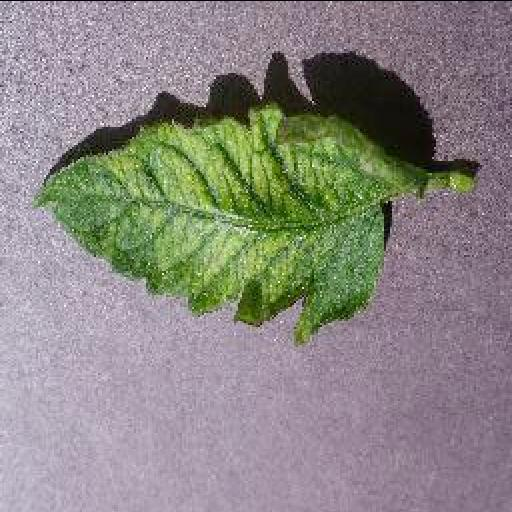Mosaic Virus: (32, 104, 422, 352)
